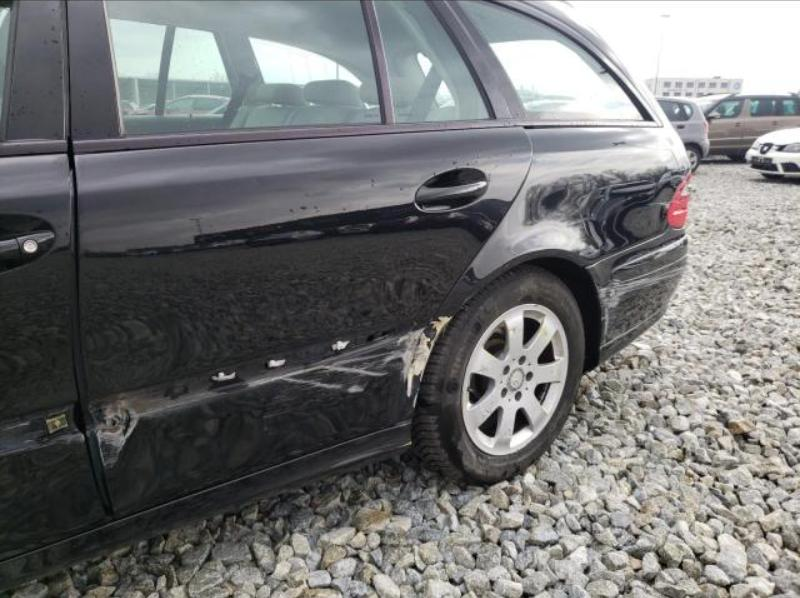Back-door: (62, 0, 528, 514)
Back-wheel: (411, 266, 588, 485)
Back-window: (102, 0, 381, 138), (459, 0, 663, 132), (377, 0, 494, 125)
Front-door: (0, 0, 113, 557)
Front-window: (0, 3, 15, 127)
Quarter-panel: (406, 123, 689, 419)
Rocker-panel: (0, 421, 407, 598)
Tail-light: (660, 174, 692, 236)
